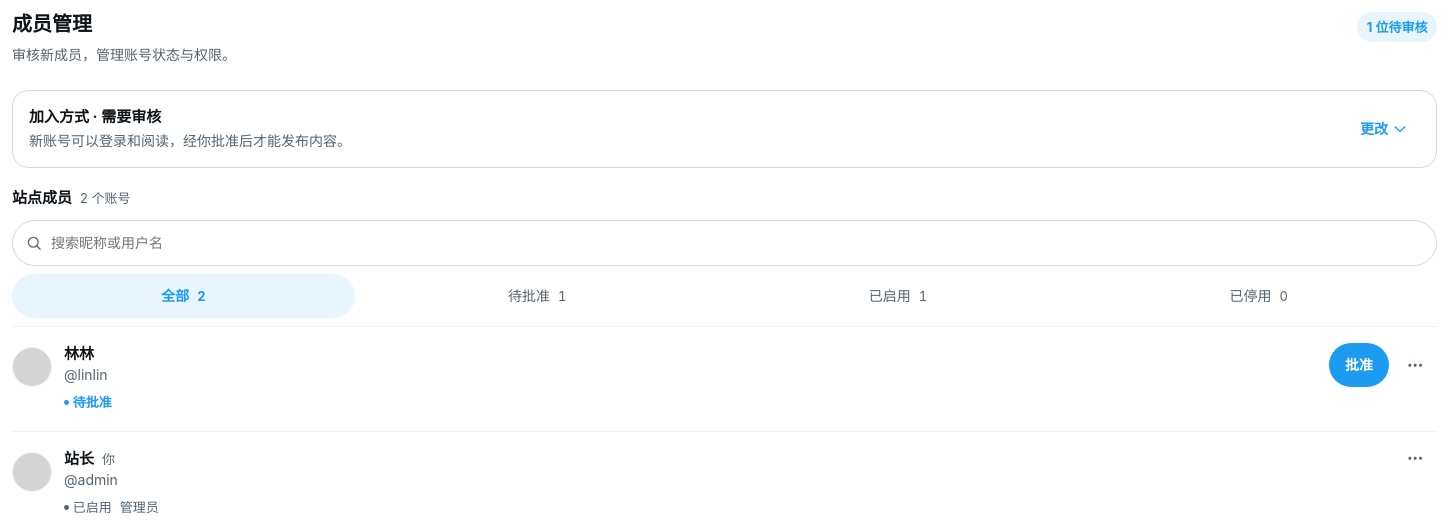
it: members section › filters by status and searches names without requesting the roster again
Type "LINLIN" into the search field named "搜索成员" at (738, 243), box [51, 221, 1424, 265]
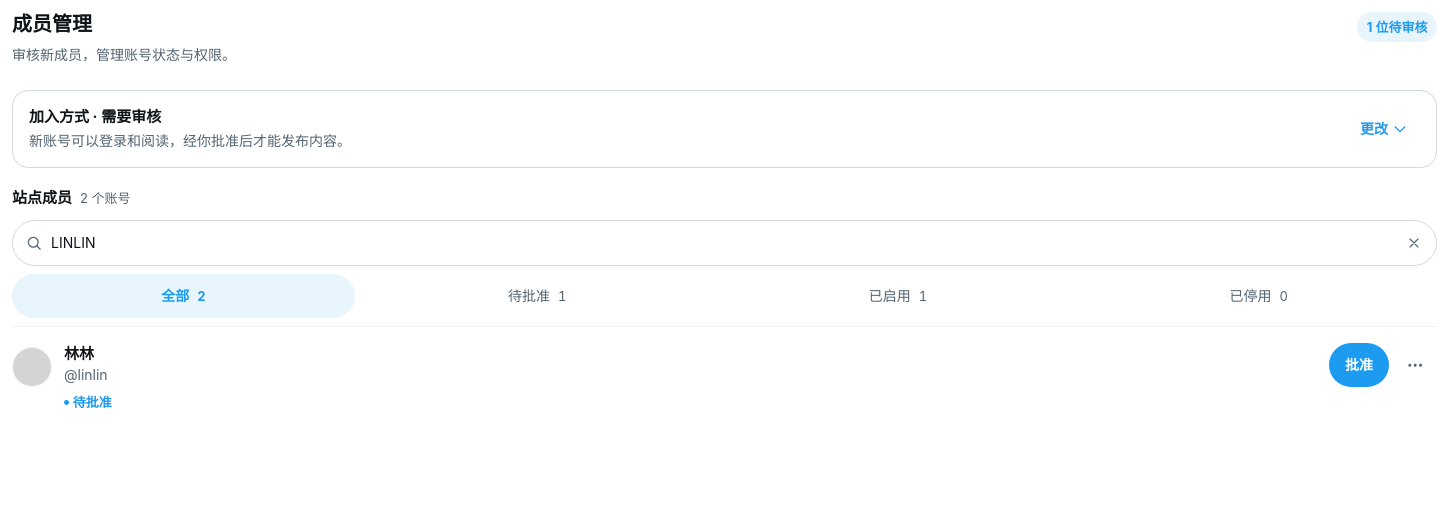
Check: the text "林林" is shown, box [64, 343, 94, 364]
Check: the text "站长" is gone
Click the button "已启用 1" at (898, 296), box [720, 274, 1076, 318]
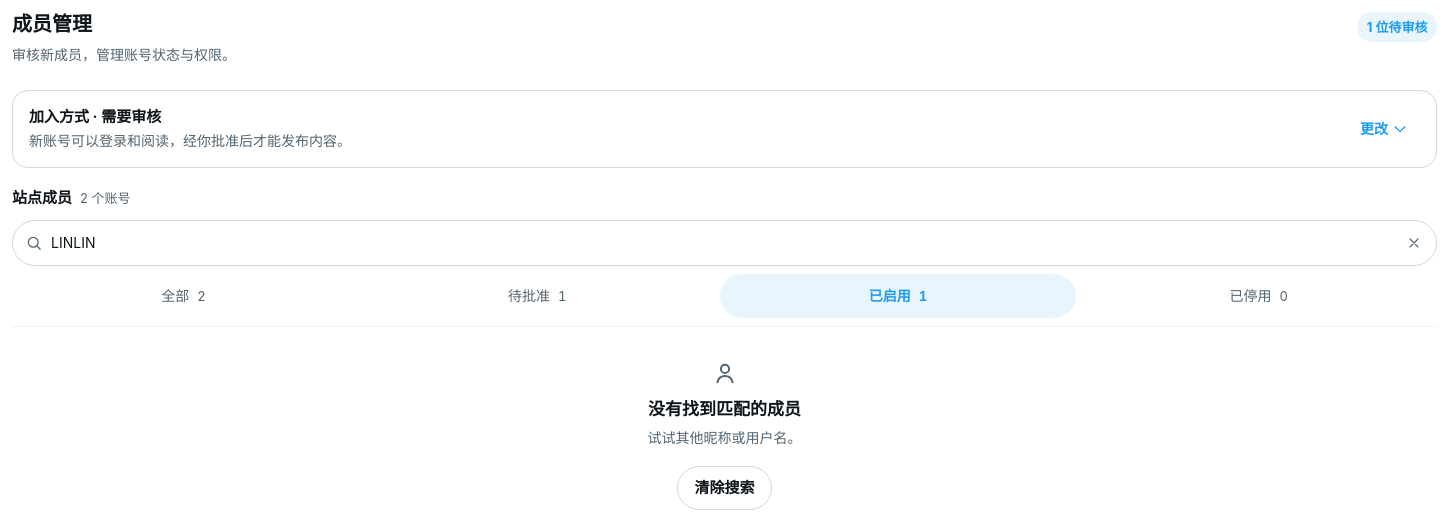
Check: the text "没有找到匹配的成员" is shown, box [648, 399, 801, 419]
Click the button named "清除成员搜索" at (1414, 243), box [1392, 221, 1436, 265]
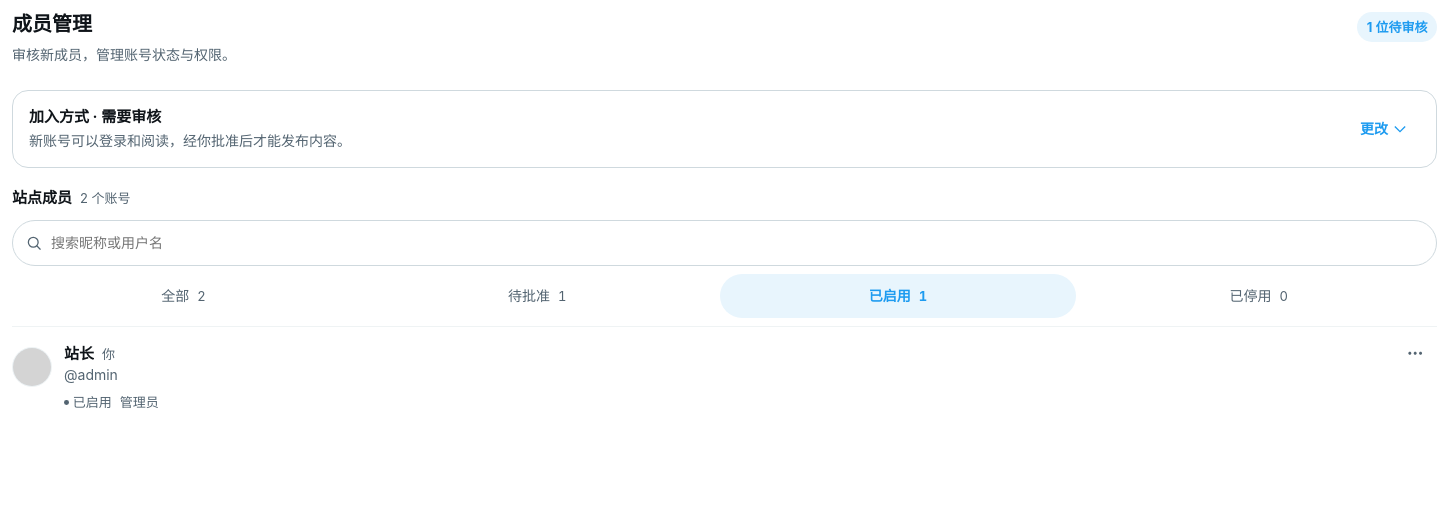
Check: the list named "站点成员" shows "站长", box [64, 344, 94, 363]
